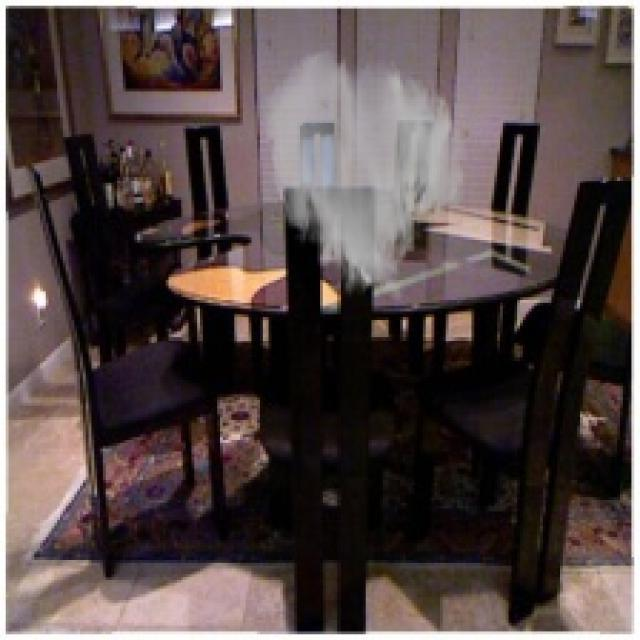Smoke: (263, 46, 468, 306)
